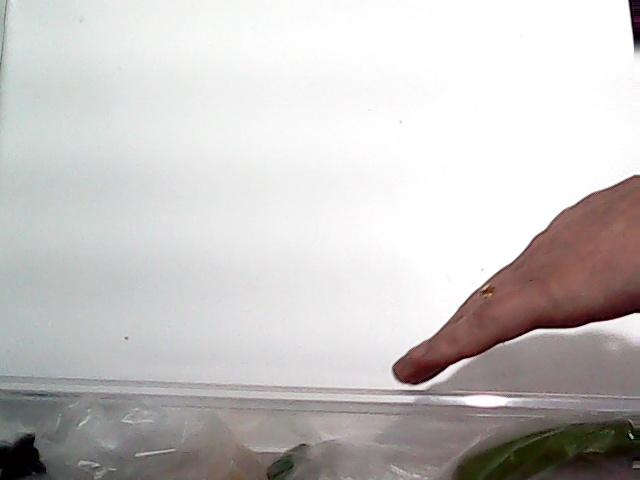pepper: (448, 411, 640, 480)
radish: (268, 440, 437, 480)
